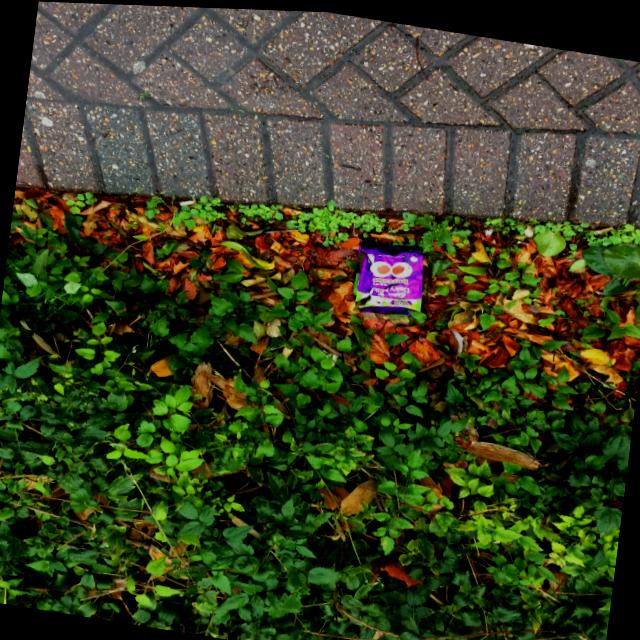Plastic: (340, 228, 434, 322)
